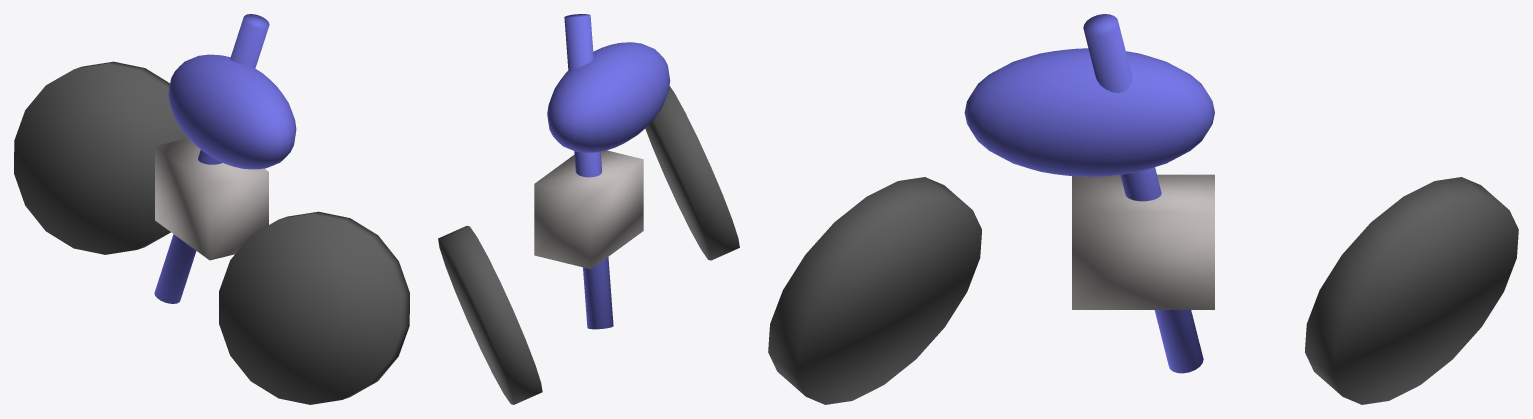
File: motorcycle.glb
3 renders of one model, left to right at view 1: azimuth 30°, elevation 25°; view 2: azimuth 150°, elevation 25°; view 3: azimuth 270°, elevation 25°, orthographic. The views are drawn at different scales.
Parts seen in each view (by area): view 1: wheel_0.75, wheel_-0.75, tank, engine, frame; view 2: engine, tank, wheel_-0.75, wheel_0.75, frame; view 3: wheel_0.75, wheel_-0.75, tank, engine, frame.
Boxes of the visible parts, x1,y1,x2,y2 form: wheel_0.75: (219,211,409,404); wheel_-0.75: (14,61,187,254); tank: (168,54,296,169); engine: (155,138,268,260); frame: (154,14,269,303); engine: (534,150,643,269); tank: (547,42,670,152); wheel_-0.75: (438,226,542,404); wheel_0.75: (645,86,739,260); frame: (564,14,613,329); wheel_0.75: (768,177,981,404); wheel_-0.75: (1305,177,1518,404); tank: (964,48,1214,176); engine: (1072,174,1214,309); frame: (1083,14,1203,373).
Size of the model in its own units: 0.6008 by 1.24 by 2.1.
